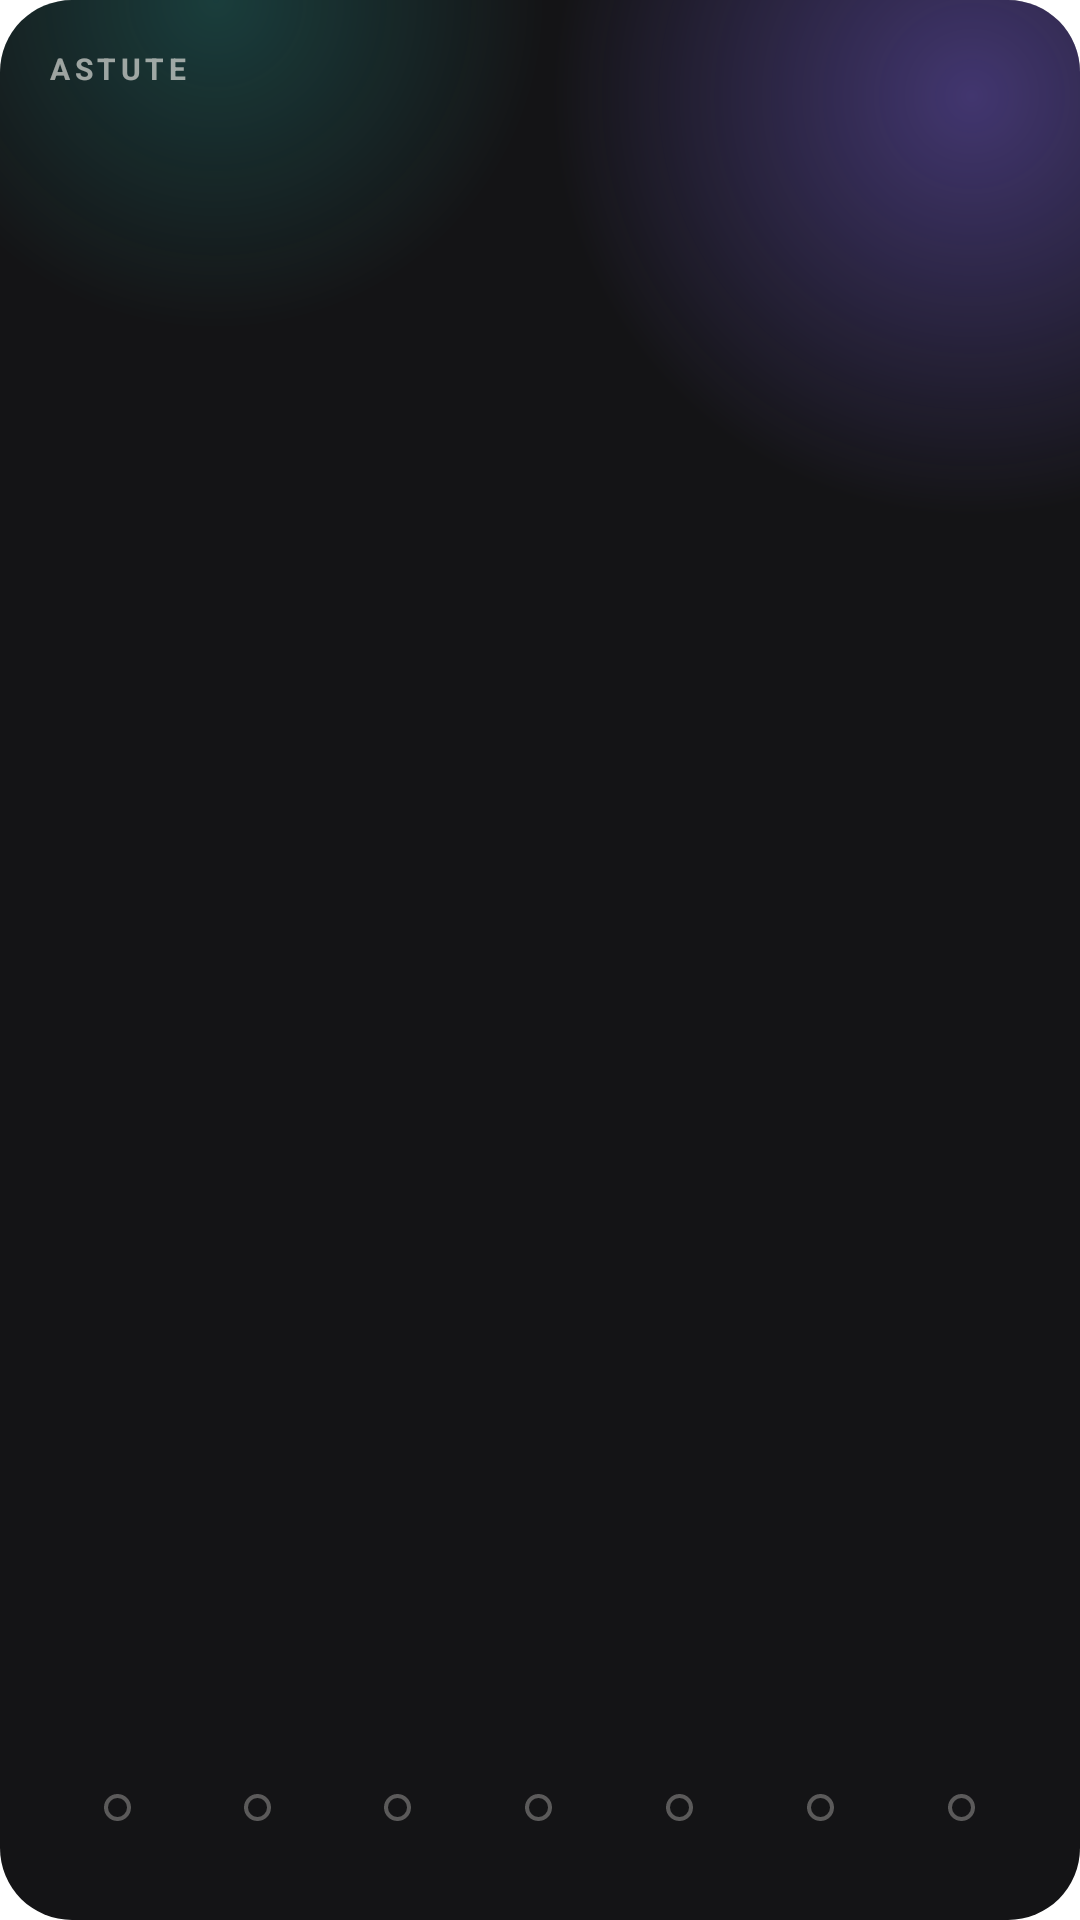

Icon click points for this 1080*1920 phone screenshot, format point (x, y):
dot open: point (117, 1807), point (257, 1807), point (397, 1807), point (538, 1807), point (679, 1807), point (820, 1807), point (961, 1807)
